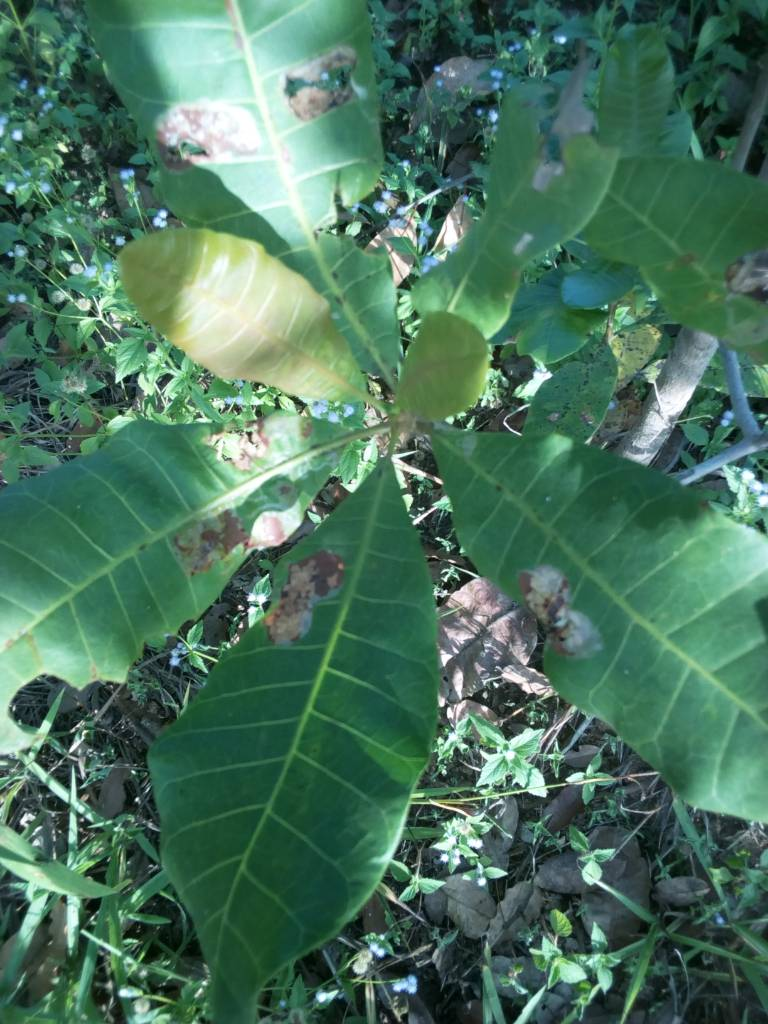Dysdercus wolkerii: (143, 449, 490, 1024), (1, 399, 369, 722)
